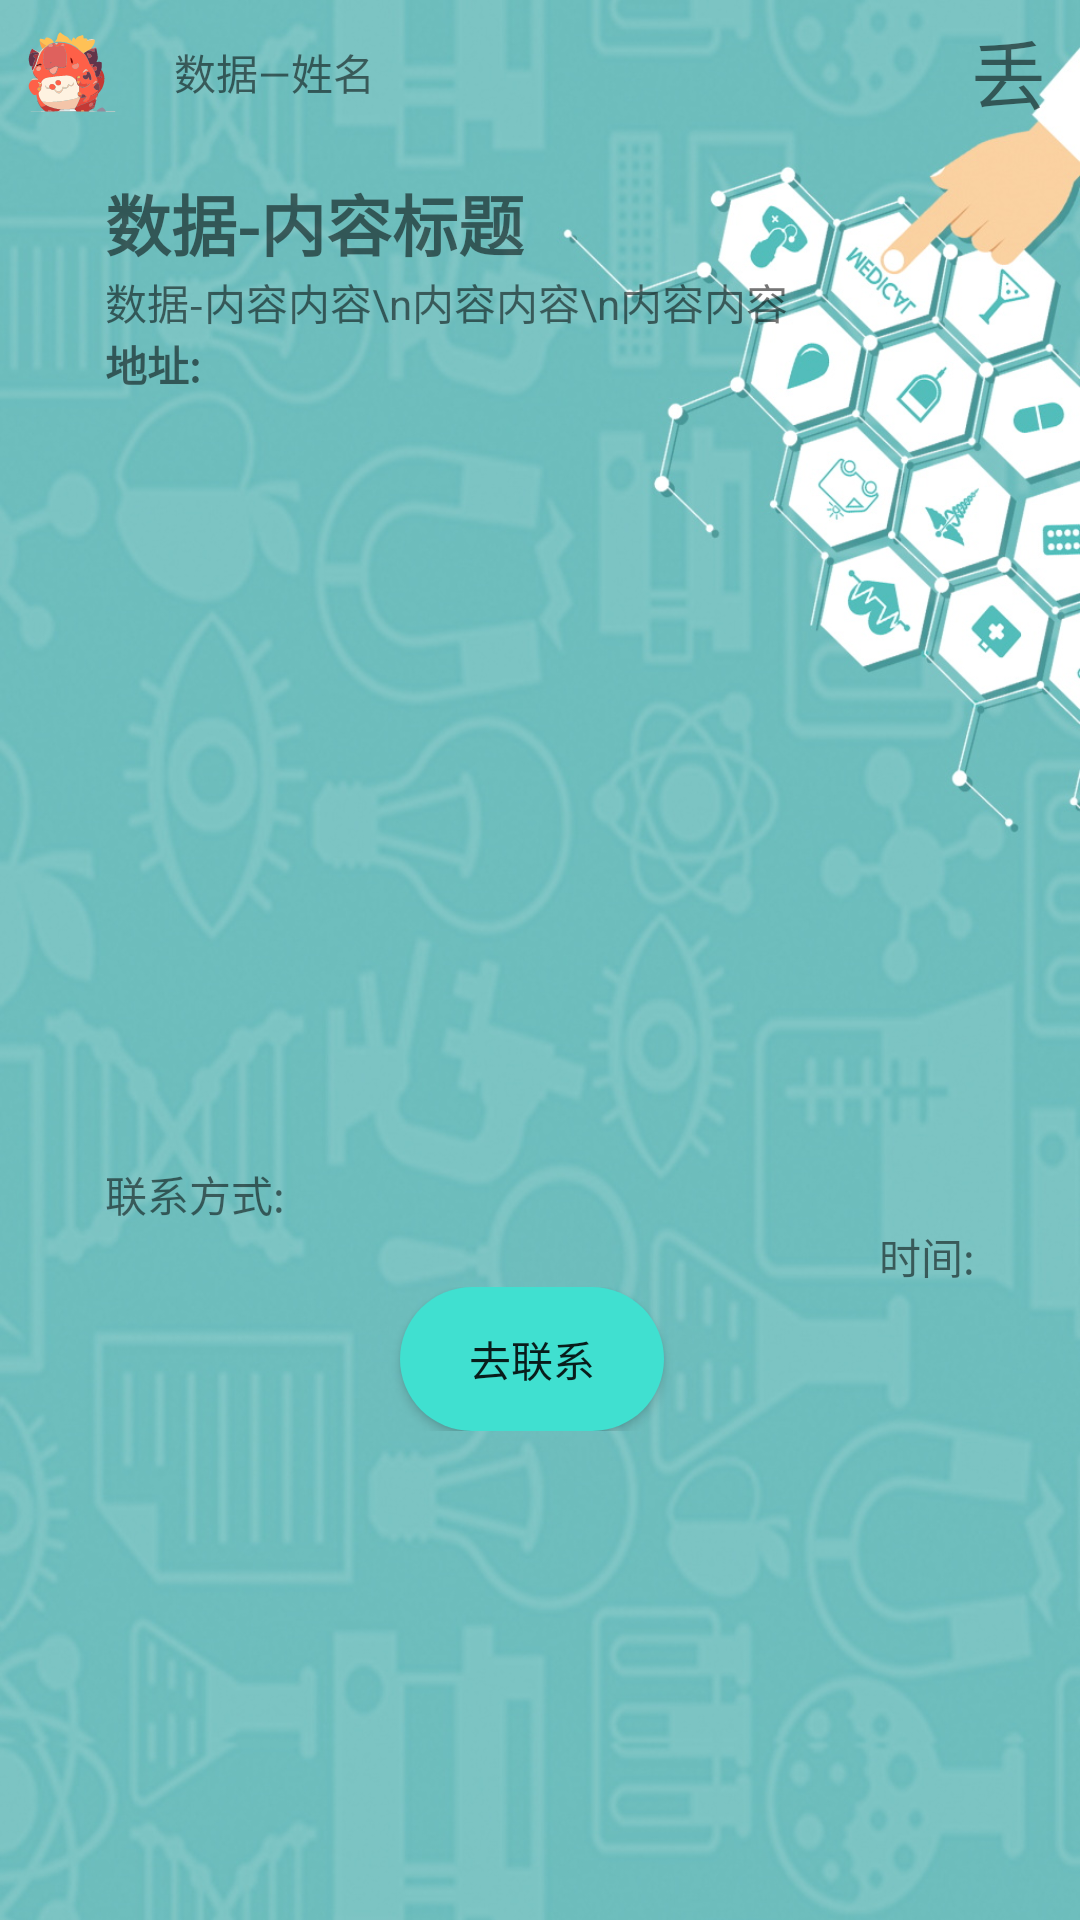

Screen size 1080 × 1920. Icon name, then its box in pixels as Rect(x1, y1, x2, y2):
头像: Rect(28, 32, 115, 112)
